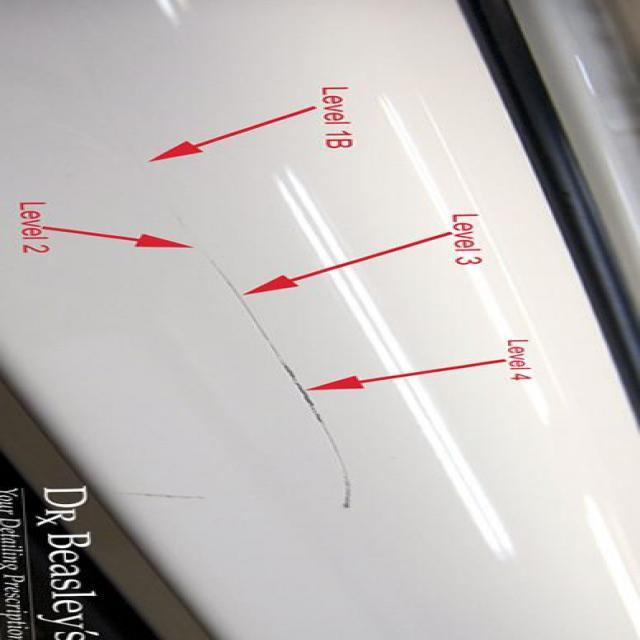scratch: (174, 260, 404, 514)
